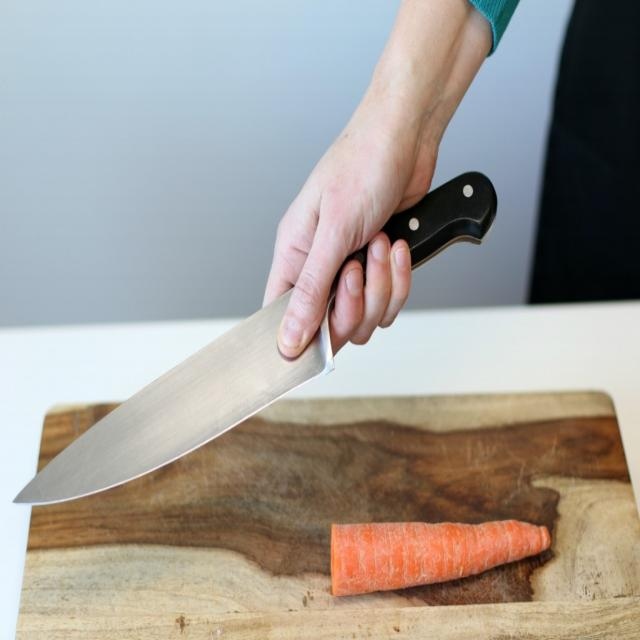knife: (11, 169, 498, 504)
